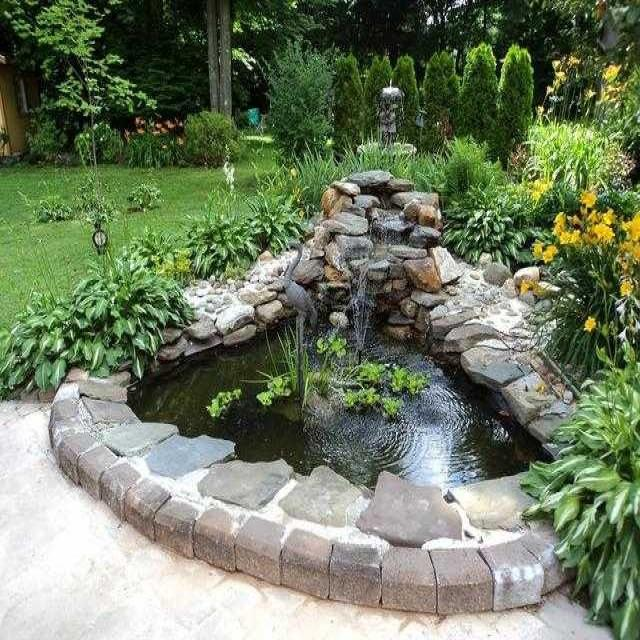Ponds: (51, 170, 580, 617)
